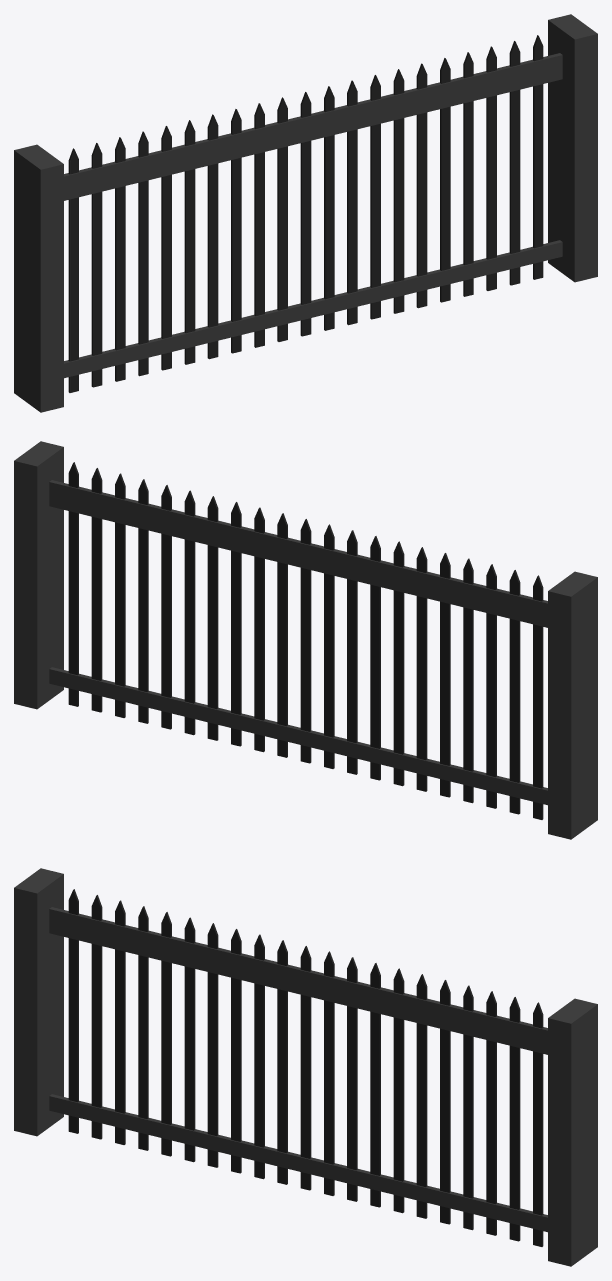
Rendered from fence.obj.
3 renders of one model, top to bottom at view 1: azimuth 30°, elevation 25°; view 2: azimuth 150°, elevation 25°; view 3: azimuth 330°, elevation 25°, orthographic.
Parts seen in each view (by area): view 1: 立方体.005; view 2: 立方体.005; view 3: 立方体.005.
Boxes of the visible parts, x1,y1,x2,y2 form: 立方体.005: (14,14,597,412); 立方体.005: (14,441,597,839); 立方体.005: (14,868,597,1266).
Bounding box in the file's own units: 12 × 5 × 1.
Materials: 1 (1 with a texture image).
